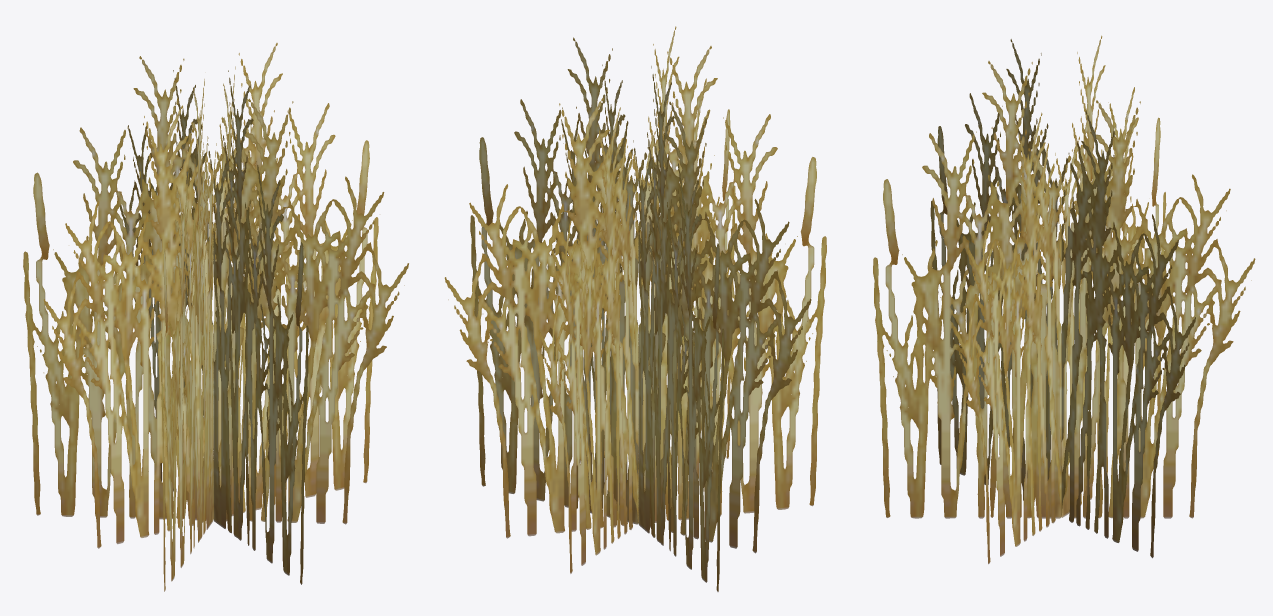
File: wheat_a.obj
3 views of the same model, side by side, from view 1: azimuth 30°, elevation 25°; view 2: azimuth 150°, elevation 25°; view 3: azimuth 270°, elevation 25° (orthographic). The views are drawn at different scales.
Visible parts, largest first — view 1: wheat_a; view 2: wheat_a; view 3: wheat_a.
Part boxes in pixels (bbox=[...]): wheat_a: bbox=[23, 43, 408, 591]; wheat_a: bbox=[444, 26, 826, 591]; wheat_a: bbox=[873, 35, 1255, 564].
Size of the model in its own units: 1.41 by 1.86 by 1.41.
